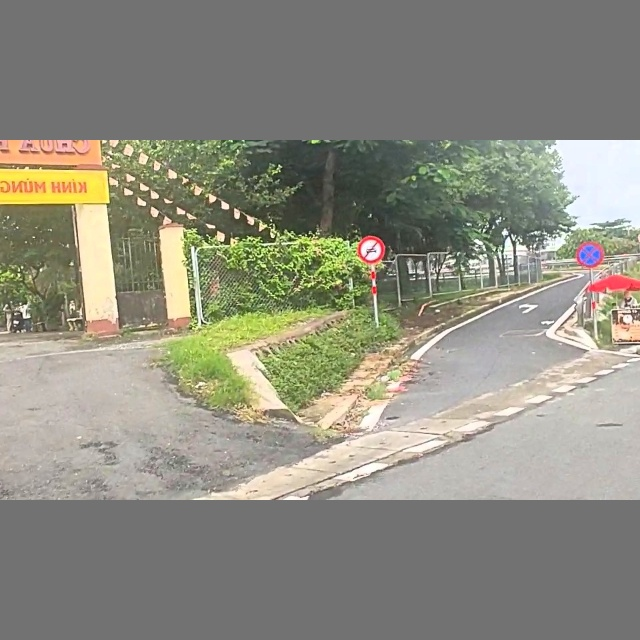P.103a: (357, 235, 385, 265)
P.130: (575, 241, 604, 269)
